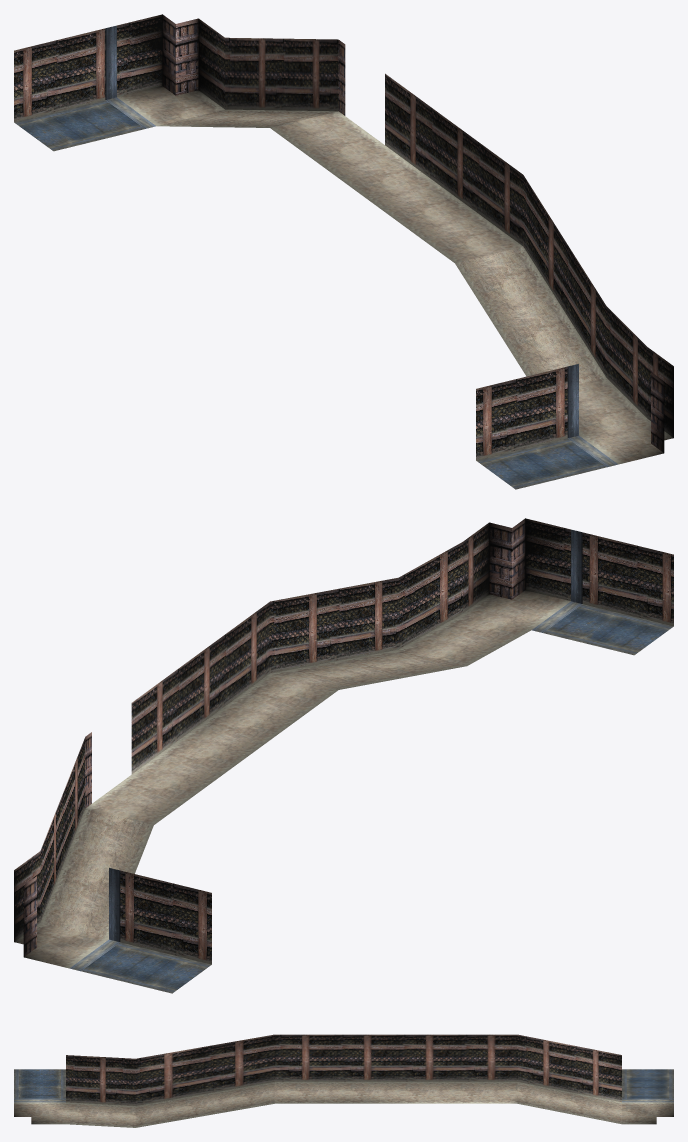
The picture shows the model from 3 angles, top to bottom: view 1: azimuth 30°, elevation 25°; view 2: azimuth 150°, elevation 25°; view 3: azimuth 270°, elevation 25°; orthographic projection. The views are drawn at different scales.
Visible parts, largest first — view 1: M09_Z05_01; view 2: M09_Z05_01; view 3: M09_Z05_01.
Part boxes in pixels (box(x1,y1,x2,y2)): M09_Z05_01: box(14, 14, 673, 489); M09_Z05_01: box(14, 518, 673, 993); M09_Z05_01: box(14, 1034, 673, 1127).
Size of the model in its own units: 9 by 5 by 38.
Materials: 6 (6 with a texture image).
